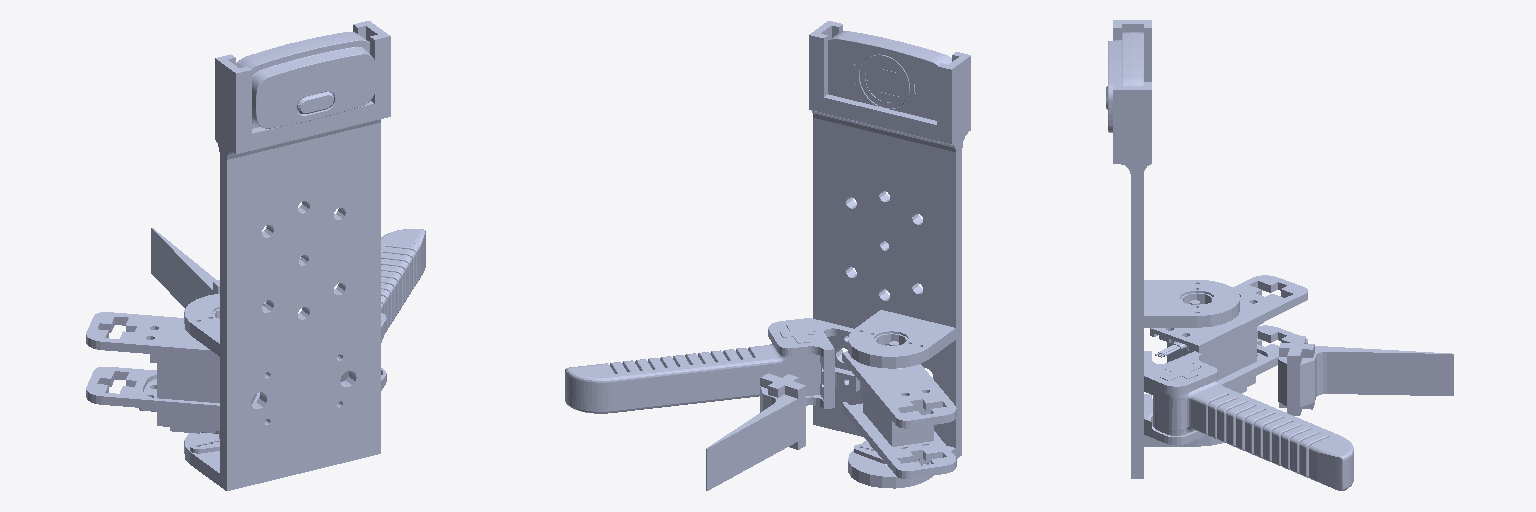
robot.urdf — robot:
<?xml version="0.0" ?>
<robot name="">
	<link name="base_link">
		<inertial>
			<origin rpy="0.00000 -0.00000 0.00000" xyz="0.00000 0.00000 0.00000"/>
			<mass value="4.00000"/>
			<inertia ixx="0.01063" ixy="0" ixz="0" iyy="0.00875" iyz="0" izz="0.01809"/>
		</inertial>
		<visual>
			<origin rpy="0.00000 -0.00000 0.00000" xyz="0.00000 0.00000 0.00000"/>
			<geometry>
				<mesh filename="assets/ur5/lw_ur_description/meshes/ur10/visual/base.dae" scale="1.00000 1.00000 1.00000"/>
			</geometry>
			<material name="mat_-1_0">
				<color rgba="0.23438 0.72656 0.32812 1.00000" />
			</material>
		</visual>
		<collision>
			<origin rpy="0.00000 -0.00000 0.00000" xyz="0.00000 0.00000 0.00000"/>
			<geometry>
				<mesh filename="assets/ur5/lw_ur_description/meshes/ur10/collision/base.stl" scale="1.00000 1.00000 1.00000"/>
			</geometry>
		</collision>
	</link>
	<link name="shoulder_link">
		<inertial>
			<origin rpy="0.00000 -0.00000 0.00000" xyz="0.00000 0.00000 0.00000"/>
			<mass value="7.77800"/>
			<inertia ixx="0.03989" ixy="0" ixz="0" iyy="0.03770" iyz="0" izz="0.03412"/>
		</inertial>
		<visual>
			<origin rpy="0.00000 -0.00000 0.00000" xyz="0.00000 0.00000 0.00000"/>
			<geometry>
				<mesh filename="assets/ur5/lw_ur_description/meshes/ur10/visual/shoulder.dae" scale="1.00000 1.00000 1.00000"/>
			</geometry>
			<material name="mat_0_0">
				<color rgba="0.23438 0.72656 0.32812 1.00000" />
			</material>
		</visual>
		<collision>
			<origin rpy="0.00000 -0.00000 0.00000" xyz="0.00000 0.00000 0.00000"/>
			<geometry>
				<mesh filename="assets/ur5/lw_ur_description/meshes/ur10/collision/shoulder.stl" scale="1.00000 1.00000 1.00000"/>
			</geometry>
		</collision>
	</link>
	<link name="upper_arm_link">
		<inertial>
			<origin rpy="0.00000 -0.00000 0.00000" xyz="0.00000 0.00000 0.30600"/>
			<mass value="12.93000"/>
			<inertia ixx="0.65013" ixy="0" ixz="0" iyy="0.64040" iyz="0" izz="0.06264"/>
		</inertial>
		<visual>
			<origin rpy="0.00000 -0.00000 0.00000" xyz="0.00000 0.00000 0.00000"/>
			<geometry>
				<mesh filename="assets/ur5/lw_ur_description/meshes/ur10/visual/upperarm.dae" scale="1.00000 1.00000 1.00000"/>
			</geometry>
			<material name="mat_1_0">
				<color rgba="0.95312 0.75781 0.05078 1.00000" />
			</material>
		</visual>
		<collision>
			<origin rpy="0.00000 -0.00000 0.00000" xyz="0.00000 0.00000 0.00000"/>
			<geometry>
				<mesh filename="assets/ur5/lw_ur_description/meshes/ur10/collision/upperarm.stl" scale="1.00000 1.00000 1.00000"/>
			</geometry>
		</collision>
	</link>
	<link name="forearm_link">
		<inertial>
			<origin rpy="0.00000 -0.00000 0.00000" xyz="0.00000 0.00000 0.28615"/>
			<mass value="3.87000"/>
			<inertia ixx="0.15749" ixy="0" ixz="0" iyy="0.15609" iyz="0" izz="0.01167"/>
		</inertial>
		<visual>
			<origin rpy="0.00000 -0.00000 0.00000" xyz="0.00000 0.00000 0.00000"/>
			<geometry>
				<mesh filename="assets/ur5/lw_ur_description/meshes/ur10/visual/forearm.dae" scale="1.00000 1.00000 1.00000"/>
			</geometry>
			<material name="mat_2_0">
				<color rgba="0.85547 0.19531 0.21094 1.00000" />
			</material>
		</visual>
		<collision>
			<origin rpy="0.00000 -0.00000 0.00000" xyz="0.00000 0.00000 0.00000"/>
			<geometry>
				<mesh filename="assets/ur5/lw_ur_description/meshes/ur10/collision/forearm.stl" scale="1.00000 1.00000 1.00000"/>
			</geometry>
		</collision>
	</link>
	<link name="wrist_1_link">
		<inertial>
			<origin rpy="0.00000 -0.00000 0.00000" xyz="0.00000 0.00000 0.00000"/>
			<mass value="1.96000"/>
			<inertia ixx="0.00438" ixy="0" ixz="0" iyy="0.00408" iyz="0" izz="0.00338"/>
		</inertial>
		<visual>
			<origin rpy="0.00000 -0.00000 0.00000" xyz="0.00000 0.00000 0.00000"/>
			<geometry>
				<mesh filename="assets/ur5/lw_ur_description/meshes/ur10/visual/wrist1.dae" scale="1.00000 1.00000 1.00000"/>
			</geometry>
			<material name="mat_3_0">
				<color rgba="0.28125 0.51953 0.92578 1.00000" />
			</material>
		</visual>
		<collision>
			<origin rpy="0.00000 -0.00000 0.00000" xyz="0.00000 0.00000 0.00000"/>
			<geometry>
				<mesh filename="assets/ur5/lw_ur_description/meshes/ur10/collision/wrist1.stl" scale="1.00000 1.00000 1.00000"/>
			</geometry>
		</collision>
	</link>
	<link name="wrist_2_link">
		<inertial>
			<origin rpy="0.00000 -0.00000 0.00000" xyz="0.00000 0.00000 0.00000"/>
			<mass value="1.96000"/>
			<inertia ixx="0.00438" ixy="0" ixz="0" iyy="0.00338" iyz="0" izz="0.00409"/>
		</inertial>
		<visual>
			<origin rpy="0.00000 -0.00000 0.00000" xyz="0.00000 0.00000 0.00000"/>
			<geometry>
				<mesh filename="assets/ur5/lw_ur_description/meshes/ur10/visual/wrist2.dae" scale="1.00000 1.00000 1.00000"/>
			</geometry>
			<material name="mat_4_0">
				<color rgba="0.23438 0.72656 0.32812 1.00000" />
			</material>
		</visual>
		<collision>
			<origin rpy="0.00000 -0.00000 0.00000" xyz="0.00000 0.00000 0.00000"/>
			<geometry>
				<mesh filename="assets/ur5/lw_ur_description/meshes/ur10/collision/wrist2.stl" scale="1.00000 1.00000 1.00000"/>
			</geometry>
		</collision>
	</link>
	<link name="wrist_3_link">
		<inertial>
			<origin rpy="0.00000 -0.00000 0.00000" xyz="0.00000 0.00000 0.00000"/>
			<mass value="0.20200"/>
			<inertia ixx="0.00018" ixy="0" ixz="0" iyy="0.00031" iyz="0" izz="0.00018"/>
		</inertial>
		<visual>
			<origin rpy="0.00000 -0.00000 0.00000" xyz="0.00000 0.00000 0.00000"/>
			<geometry>
				<mesh filename="assets/ur5/lw_ur_description/meshes/ur10/visual/wrist3.dae" scale="1.00000 1.00000 1.00000"/>
			</geometry>
			<material name="mat_5_0">
				<color rgba="0.95312 0.75781 0.05078 1.00000" />
			</material>
		</visual>
		<collision>
			<origin rpy="0.00000 -0.00000 0.00000" xyz="0.00000 0.00000 0.00000"/>
			<geometry>
				<mesh filename="assets/ur5/lw_ur_description/meshes/ur10/collision/wrist3.stl" scale="1.00000 1.00000 1.00000"/>
			</geometry>
		</collision>
	</link>
	<link name="ee_link">
		<inertial>
			<origin rpy="0.00000 -0.00000 0.00000" xyz="0.00000 0.00000 0.00000"/>
			<mass value="1.00000"/>
			<inertia ixx="0.00000" ixy="0" ixz="0" iyy="0.00000" iyz="0" izz="0.00000"/>
		</inertial>
	</link>
	<link name="base_link1">
		<inertial>
			<origin rpy="0.00000 -0.00000 0.00000" xyz="0.00018 0.01717 0.00798"/>
			<mass value="0.11784"/>
			<inertia ixx="0.00046" ixy="0" ixz="0" iyy="0.00014" iyz="0" izz="0.00051"/>
		</inertial>
		<visual>
			<origin rpy="0.00000 -0.00000 0.00000" xyz="0.00000 0.00000 0.00000"/>
			<geometry>
				<mesh filename="assets/ur5/collision/base_link_cam.STL" scale="1.00000 1.00000 1.00000"/>
			</geometry>
			<material name="mat_-1_0">
				<color rgba="0.79216 0.81961 0.93333 1.00000" />
			</material>
		</visual>
		<collision>
			<origin rpy="0.00000 -0.00000 0.00000" xyz="0.00000 0.00000 0.00000"/>
			<geometry>
				<mesh filename="assets/ur5/collision/base_link_cam.STL" scale="1.00000 1.00000 1.00000"/>
			</geometry>
		</collision>
	</link>
	<link name="rigid_link1">
		<inertial>
			<origin rpy="0.00000 -0.00000 0.00000" xyz="0.00246 0.00390 0.01312"/>
			<mass value="0.04453"/>
			<inertia ixx="0.00005" ixy="0" ixz="0" iyy="0.00004" iyz="0" izz="0.00002"/>
		</inertial>
		<visual>
			<origin rpy="0.00000 -0.00000 0.00000" xyz="0.00000 0.00000 0.00000"/>
			<geometry>
				<mesh filename="assets/ur5/collision/rigid_link.STL" scale="1.00000 1.00000 1.00000"/>
			</geometry>
			<material name="mat_0_0">
				<color rgba="0.79216 0.81961 0.93333 1.00000" />
			</material>
		</visual>
		<collision>
			<origin rpy="0.00000 -0.00000 0.00000" xyz="0.00000 0.00000 0.00000"/>
			<geometry>
				<mesh filename="assets/ur5/collision/rigid_link.STL" scale="1.00000 1.00000 1.00000"/>
			</geometry>
		</collision>
	</link>
	<link name="rigid_tip_link1">
		<inertial>
			<origin rpy="0.00000 -0.00000 0.00000" xyz="0.00774 -0.00085 -0.06113"/>
			<mass value="0.01345"/>
			<inertia ixx="0.00001" ixy="0" ixz="0" iyy="0.00001" iyz="0" izz="0.00000"/>
		</inertial>
		<visual>
			<origin rpy="0.00000 -0.00000 0.00000" xyz="0.00000 0.00000 0.00000"/>
			<geometry>
				<mesh filename="assets/ur5/collision/rigid_tip_link.STL" scale="1.00000 1.00000 1.00000"/>
			</geometry>
			<material name="mat_1_0">
				<color rgba="0.79216 0.81961 0.93333 1.00000" />
			</material>
		</visual>
		<collision>
			<origin rpy="0.00000 -0.00000 0.00000" xyz="0.00000 0.00000 0.00000"/>
			<geometry>
				<mesh filename="assets/ur5/collision/rigid_tip_link.STL" scale="1.00000 1.00000 1.00000"/>
			</geometry>
		</collision>
	</link>
	<link name="soft_tip_link1">
		<inertial>
			<origin rpy="0.00000 -0.00000 0.00000" xyz="-0.06728 -0.00000 -0.00124"/>
			<mass value="0.02675"/>
			<inertia ixx="0.00001" ixy="0" ixz="0" iyy="0.00004" iyz="0" izz="0.00004"/>
		</inertial>
		<visual>
			<origin rpy="0.00000 -0.00000 0.00000" xyz="0.00000 0.00000 0.00000"/>
			<geometry>
				<mesh filename="assets/ur5/collision/soft_tip_link.STL" scale="1.00000 1.00000 1.00000"/>
			</geometry>
			<material name="mat_2_0">
				<color rgba="0.79216 0.81961 0.93333 1.00000" />
			</material>
		</visual>
		<collision>
			<origin rpy="0.00000 -0.00000 0.00000" xyz="0.00000 0.00000 0.00000"/>
			<geometry>
				<mesh filename="assets/ur5/collision/soft_tip_link.STL" scale="1.00000 1.00000 1.00000"/>
			</geometry>
		</collision>
	</link>
	<joint name="shoulder_pan_joint" type="revolute">
		<parent link="base_link"/>
		<child link="shoulder_link"/>
		<dynamics damping="1.0" friction="0.0001"/>
		<origin rpy="0.00000 -0.00000 0.00000" xyz="0.00000 0.00000 0.12730"/>
		<axis xyz="0.00000 0.00000 1.00000"/>
		<limit effort="330.0" lower="-6.2831853" upper="6.2831853" velocity="2.16"/>
	</joint>
	<joint name="shoulder_lift_joint" type="revolute">
		<parent link="shoulder_link"/>
		<child link="upper_arm_link"/>
		<dynamics damping="1.0" friction="0.0001"/>
		<origin rpy="0.00000 1.57080 -0.00000" xyz="0.00000 0.22094 0.00000"/>
		<axis xyz="0.00000 1.00000 0.00000"/>
		<limit effort="330.0" lower="-6.2831853" upper="6.2831853" velocity="2.16"/>
	</joint>
	<joint name="elbow_joint" type="revolute">
		<parent link="upper_arm_link"/>
		<child link="forearm_link"/>
		<dynamics damping="1.0" friction="0.0001"/>
		<origin rpy="0.00000 -0.00000 0.00000" xyz="0.00000 -0.17190 0.61200"/>
		<axis xyz="0.00000 1.00000 0.00000"/>
		<limit effort="150.0" lower="-6.2831853" upper="6.2831853" velocity="3.15"/>
	</joint>
	<joint name="wrist_1_joint" type="revolute">
		<parent link="forearm_link"/>
		<child link="wrist_1_link"/>
		<dynamics damping="1.0" friction="0.0001"/>
		<origin rpy="0.00000 1.57080 -0.00000" xyz="0.00000 0.00000 0.57230"/>
		<axis xyz="0.00000 1.00000 0.00000"/>
		<limit effort="54.0" lower="-6.2831853" upper="6.2831853" velocity="3.2"/>
	</joint>
	<joint name="wrist_2_joint" type="revolute">
		<parent link="wrist_1_link"/>
		<child link="wrist_2_link"/>
		<dynamics damping="1.0" friction="0.0001"/>
		<origin rpy="0.00000 -0.00000 0.00000" xyz="0.00000 0.11490 0.00000"/>
		<axis xyz="0.00000 0.00000 1.00000"/>
		<limit effort="54.0" lower="-6.2831853" upper="6.2831853" velocity="3.2"/>
	</joint>
	<joint name="wrist_3_joint" type="revolute">
		<parent link="wrist_2_link"/>
		<child link="wrist_3_link"/>
		<dynamics damping="1.0" friction="0.0001"/>
		<origin rpy="0.00000 -0.00000 0.00000" xyz="0.00000 0.00000 0.11570"/>
		<axis xyz="0.00000 1.00000 0.00000"/>
		<limit effort="54.0" lower="-6.2831853" upper="6.2831853" velocity="3.2"/>
	</joint>
	<joint name="ee_fixed_joint" type="fixed">
		<parent link="wrist_3_link"/>
		<child link="ee_link"/>
		<dynamics damping="1.0" friction="0.0001"/>
		<origin rpy="0.00000 -0.00000 1.57080" xyz="0.00000 0.09220 0.00000"/>
		<axis xyz="0.00000 0.00000 0.00000"/>
	</joint>
	<joint name="joint_dummy1" type="fixed">
		<parent link="ee_link"/>
		<child link="base_link1"/>
		<dynamics damping="1.0" friction="0.0001"/>
		<origin rpy="1.57080 0.00000 1.57080" xyz="0.00000 0.00000 0.00000"/>
		<axis xyz="0.00000 0.00000 1.00000"/>
	</joint>
	<joint name="rigid_rev_joint1" type="revolute">
		<parent link="base_link1"/>
		<child link="rigid_link1"/>
		<dynamics damping="1.0" friction="0.0001"/>
		<origin rpy="0.00000 -0.00000 0.00000" xyz="-0.01800 0.06040 0.03100"/>
		<axis xyz="0.00000 -1.00000 0.00000"/>
		<limit
		  lower="-3.1415926"
		  upper="3.1415926"
		  effort="0"
		  velocity="0" />
	</joint>
	<joint name="rigid_tip_joint1" type="fixed">
		<parent link="rigid_link1"/>
		<child link="rigid_tip_link1"/>
		<dynamics damping="1.0" friction="0.0001"/>
		<origin rpy="0.00000 -0.13252 3.14159" xyz="0.02939 -0.00085 0.11906"/>
		<axis xyz="0.00000 0.00000 0.00000"/>
	</joint>
	<joint name="soft_tip_joint1" type="fixed">
		<parent link="base_link1"/>
		<child link="soft_tip_link1"/>
		<dynamics damping="1.0" friction="0.0001"/>
		<origin rpy="0.00000 -0.66549 0.00000" xyz="0.11681 0.06100 0.09874"/>
		<axis xyz="0.00000 0.00000 0.00000"/>
	</joint>
</robot>

--- What the picture shows (computed from the rendered views, not written in the file) ---
The picture shows the robot from 3 angles, left to right: view 1: azimuth 30°, elevation 25°; view 2: azimuth 150°, elevation 25°; view 3: azimuth 270°, elevation 25°; orthographic projection.
Model robot with 12 links and 11 joints (7 revolute, 4 fixed), rooted at base_link, posed every joint at zero.
Links seen in each view (by area): view 1: base_link1, rigid_link1, soft_tip_link1, rigid_tip_link1; view 2: base_link1, soft_tip_link1, rigid_link1, rigid_tip_link1; view 3: base_link1, soft_tip_link1, rigid_tip_link1, rigid_link1.
Boxes of the visible links, left/top/right/bottom form: base_link1: left=184, top=21, right=390, bottom=490; rigid_link1: left=86, top=312, right=259, bottom=434; soft_tip_link1: left=340, top=229, right=425, bottom=381; rigid_tip_link1: left=151, top=228, right=219, bottom=308; base_link1: left=768, top=21, right=970, bottom=488; soft_tip_link1: left=565, top=344, right=820, bottom=413; rigid_link1: left=842, top=341, right=956, bottom=478; rigid_tip_link1: left=706, top=373, right=805, bottom=490; base_link1: left=1106, top=20, right=1239, bottom=478; soft_tip_link1: left=1153, top=381, right=1353, bottom=490; rigid_tip_link1: left=1278, top=336, right=1453, bottom=415; rigid_link1: left=1150, top=275, right=1307, bottom=393.
Bounding box of the posed robot: 0.1867 × 0.1614 × 0.2006 m (x, y, z).
Meshes: 11 distinct files referenced, 4 mesh visuals loaded (4 binary STL); not drawn: 7 (reference not matched to a file when rendering).